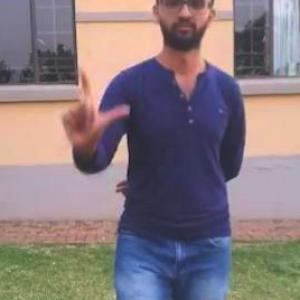land_hand: (59, 65, 131, 145)
